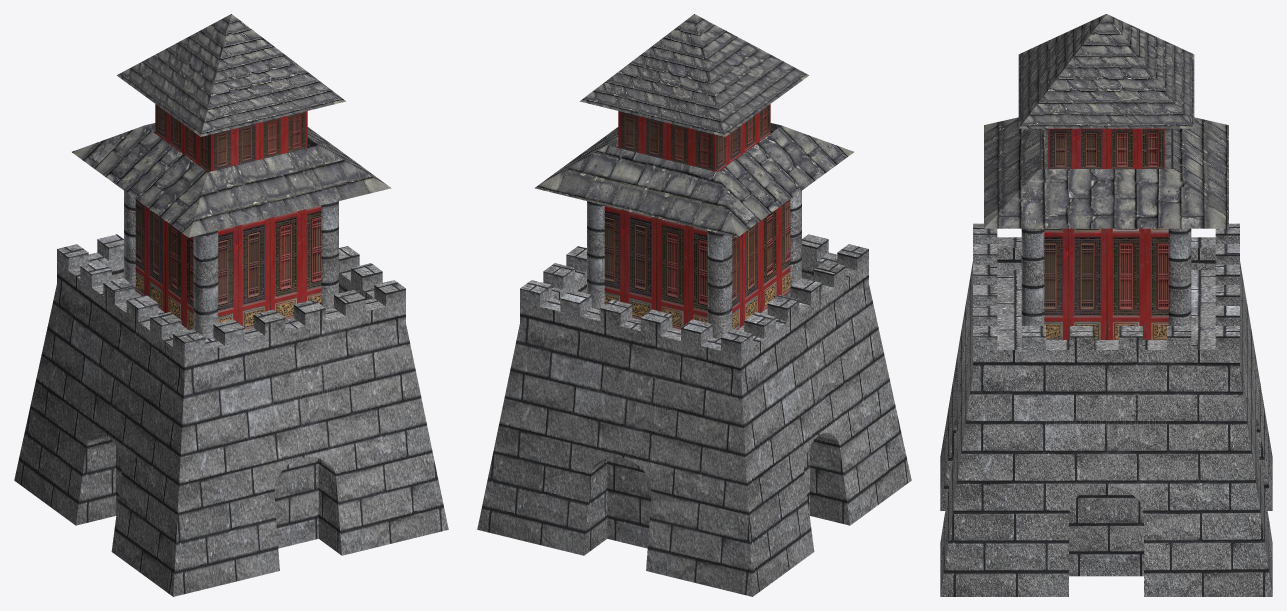
Rendered from building1.fbx.
The picture shows the model from 3 angles, left to right: view 1: azimuth 30°, elevation 25°; view 2: azimuth 150°, elevation 25°; view 3: azimuth 270°, elevation 25°; orthographic projection. The views are drawn at different scales.
Parts seen in each view (by area): view 1: Box001, Box003, Box004, Box006, Box005; view 2: Box001, Box003, Box004, Box006, Box005; view 3: Box001, Box003, Box006, Box004, Box005.
Part boxes in pixels (x1,y1,x2,y2): Box001: (14, 191, 448, 596); Box003: (72, 123, 391, 237); Box004: (135, 199, 321, 329); Box006: (117, 14, 346, 136); Box005: (155, 104, 307, 171); Box001: (477, 191, 911, 596); Box003: (534, 123, 853, 237); Box004: (604, 199, 790, 329); Box006: (579, 14, 808, 136); Box005: (618, 104, 770, 171); Box001: (940, 223, 1272, 596); Box003: (984, 117, 1228, 228); Box006: (1018, 14, 1194, 128); Box004: (1044, 228, 1168, 339); Box005: (1048, 128, 1164, 168).
Size of the model in its own units: 100 by 170 by 100.
